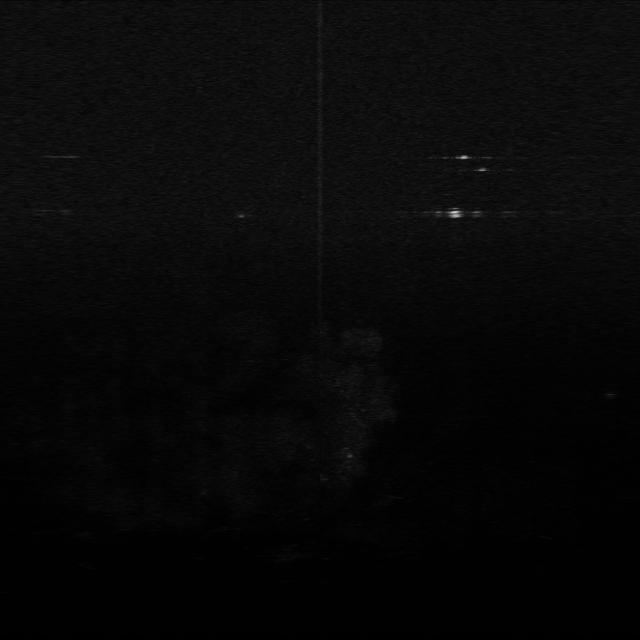rov: (446, 204, 464, 224)
